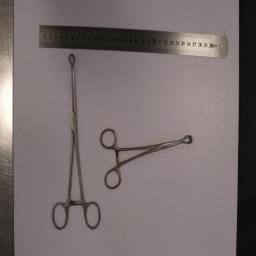Babcock Tissue Forceps: (100, 128, 192, 188)
